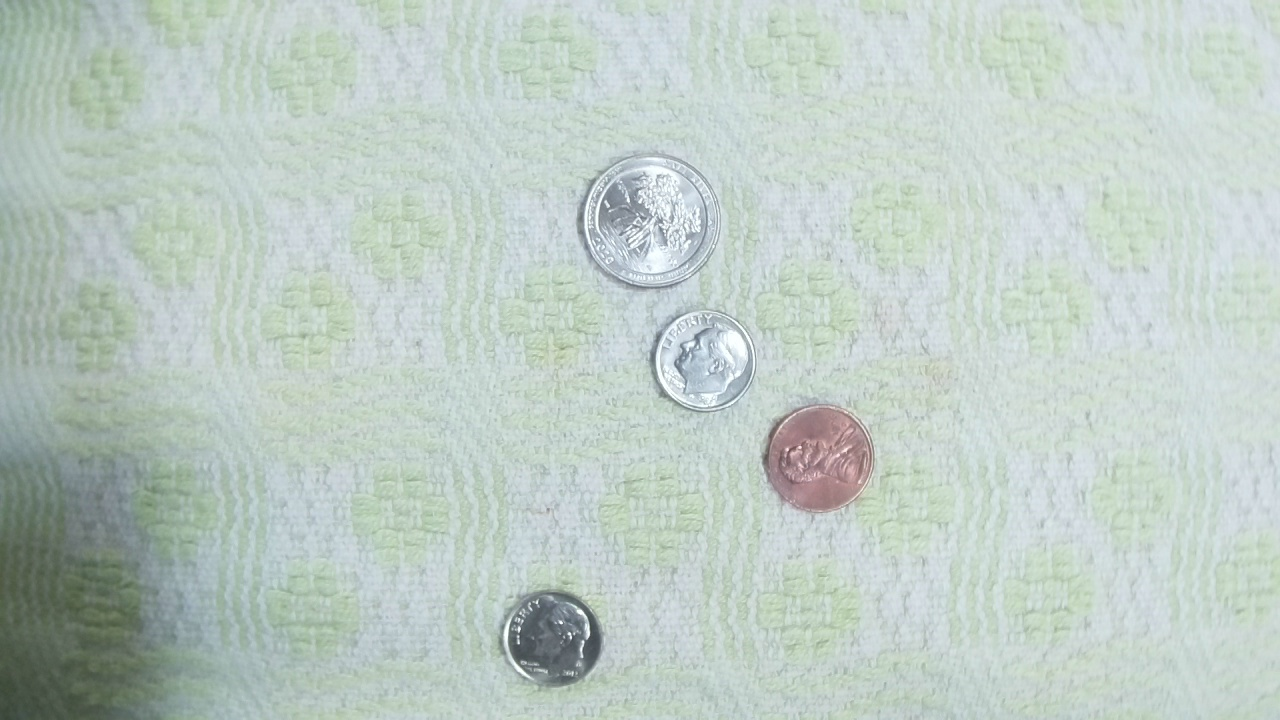dime: (650, 306, 758, 416), (503, 588, 601, 688)
penny: (762, 401, 876, 517)
quarter: (578, 154, 722, 286)
